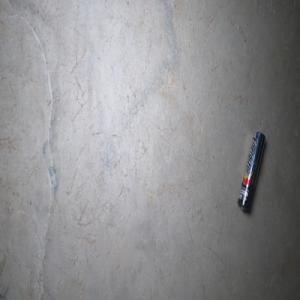Battery: (237, 131, 265, 213)
